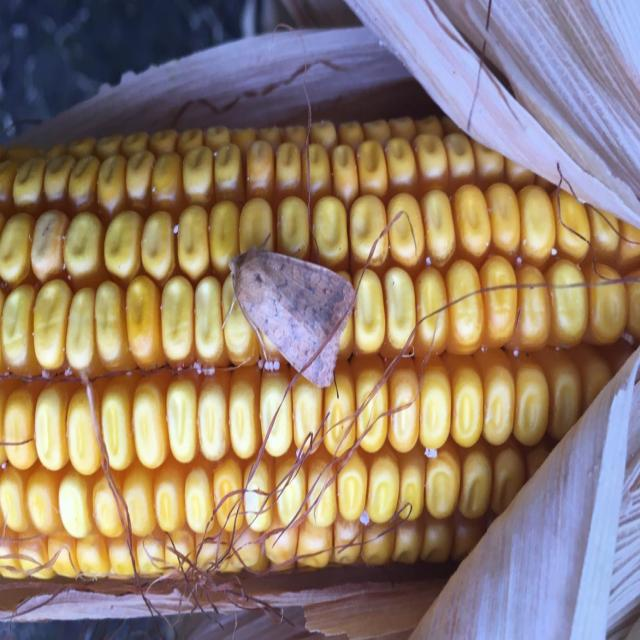cornborer-Adult-: (221, 233, 370, 407)
